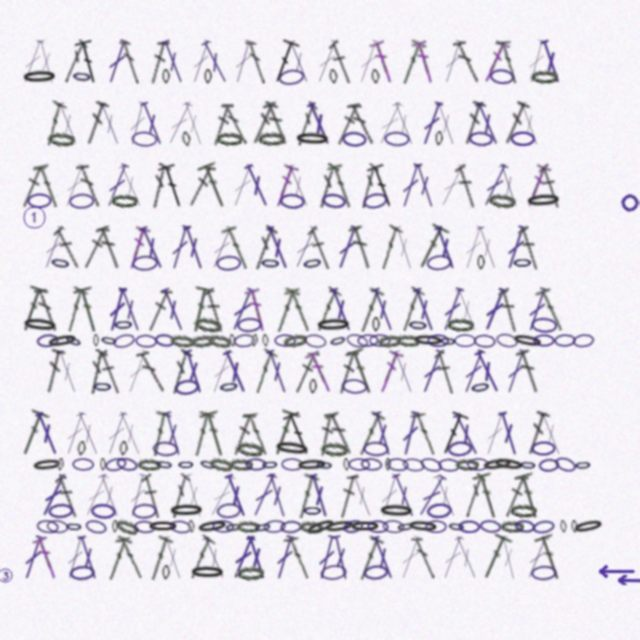chain: (304, 516, 338, 538), (273, 439, 311, 458), (21, 316, 59, 334), (525, 192, 562, 209), (572, 517, 605, 536), (46, 332, 79, 350), (511, 332, 544, 350), (21, 69, 58, 85), (294, 131, 331, 147), (315, 317, 352, 333), (378, 503, 415, 519), (481, 456, 514, 473), (492, 456, 525, 473), (196, 518, 229, 535), (323, 518, 356, 535), (168, 503, 205, 518), (189, 565, 226, 580), (193, 315, 222, 334), (31, 457, 64, 473), (235, 440, 264, 458), (114, 517, 140, 537), (362, 191, 389, 210), (487, 192, 516, 209), (278, 68, 305, 86), (412, 333, 444, 348), (407, 519, 439, 534), (553, 455, 578, 474), (321, 192, 347, 210), (174, 378, 200, 396), (341, 378, 368, 395), (320, 564, 347, 581), (47, 131, 75, 147), (320, 441, 348, 457), (296, 458, 328, 472), (236, 565, 264, 581), (489, 68, 515, 85), (426, 254, 452, 271), (282, 332, 308, 349), (447, 440, 473, 457), (208, 456, 234, 473), (216, 502, 242, 519), (426, 502, 452, 519), (363, 564, 389, 581), (131, 131, 158, 147), (112, 332, 136, 350), (345, 332, 369, 350), (152, 441, 179, 457), (419, 456, 443, 474), (84, 518, 108, 536), (530, 69, 558, 84), (215, 131, 243, 146), (257, 131, 285, 146), (110, 193, 138, 208), (446, 317, 474, 332), (509, 503, 537, 518), (384, 131, 410, 147), (468, 131, 494, 147), (279, 193, 305, 209), (132, 255, 158, 271), (531, 317, 557, 333), (363, 441, 389, 457), (90, 503, 116, 519), (147, 520, 179, 533), (349, 520, 381, 533), (69, 565, 95, 581), (531, 565, 557, 581), (49, 254, 72, 272), (301, 254, 324, 272), (469, 378, 492, 396), (495, 332, 519, 349), (104, 456, 128, 473), (115, 456, 139, 473), (342, 131, 367, 147), (69, 193, 94, 209), (216, 255, 241, 271), (237, 317, 262, 333), (190, 333, 215, 349), (207, 333, 232, 349), (377, 333, 402, 349), (48, 503, 73, 519), (132, 503, 157, 519), (342, 518, 365, 535), (63, 332, 84, 350), (510, 131, 535, 146), (27, 193, 52, 208), (531, 441, 556, 456), (71, 68, 93, 85), (218, 378, 240, 395), (304, 333, 327, 349), (402, 457, 425, 473), (169, 519, 192, 535), (532, 519, 555, 535), (407, 317, 429, 333), (36, 333, 59, 348), (233, 333, 256, 348), (572, 333, 595, 348), (360, 457, 383, 472), (386, 457, 409, 472), (36, 519, 59, 534), (46, 519, 69, 534), (263, 519, 286, 534), (382, 519, 405, 534), (479, 519, 502, 534), (328, 332, 348, 349), (198, 456, 218, 473), (260, 255, 281, 271), (170, 334, 194, 348), (299, 520, 323, 534), (154, 333, 176, 348), (514, 519, 536, 534), (473, 334, 496, 348), (99, 332, 119, 348), (253, 519, 273, 535), (512, 255, 533, 270), (113, 317, 134, 332), (92, 379, 113, 394), (302, 503, 323, 518), (396, 334, 420, 347), (137, 458, 161, 471), (229, 458, 253, 471), (455, 458, 479, 471), (236, 520, 260, 533), (500, 520, 524, 533), (135, 334, 157, 348), (438, 458, 460, 472), (538, 458, 560, 472), (134, 520, 156, 534), (280, 520, 302, 534), (274, 334, 296, 347), (357, 334, 379, 347), (369, 334, 391, 347), (427, 334, 449, 347), (454, 334, 476, 347), (533, 334, 555, 347), (554, 334, 576, 347), (72, 458, 94, 471), (245, 458, 267, 471), (281, 458, 303, 471), (348, 458, 370, 471), (467, 458, 489, 471), (212, 520, 234, 533), (367, 520, 389, 533), (425, 520, 447, 533), (458, 520, 480, 533), (155, 457, 174, 472), (396, 519, 415, 534), (447, 519, 466, 534), (315, 458, 334, 472), (224, 520, 243, 534), (439, 334, 457, 348), (519, 458, 537, 472), (574, 458, 592, 472), (177, 458, 195, 471), (261, 458, 279, 471), (65, 520, 83, 533), (181, 131, 192, 147), (329, 69, 338, 84), (371, 69, 380, 84), (77, 441, 86, 456), (119, 441, 128, 456), (162, 69, 170, 84), (204, 69, 212, 84), (435, 131, 443, 146), (477, 255, 485, 270), (372, 317, 380, 332), (309, 379, 317, 394), (162, 565, 170, 580), (229, 334, 236, 347), (251, 334, 258, 347), (262, 334, 269, 347), (57, 458, 64, 471), (343, 458, 350, 471), (188, 520, 195, 533), (560, 520, 567, 533), (571, 520, 578, 533), (93, 334, 99, 347), (100, 458, 106, 471), (385, 458, 391, 471), (112, 520, 118, 533)
double: (413, 223, 450, 272), (477, 533, 513, 582), (197, 161, 232, 210), (345, 347, 379, 396), (16, 409, 50, 458), (282, 410, 316, 458), (436, 410, 470, 458), (16, 285, 49, 334), (268, 409, 301, 458), (534, 533, 567, 582), (414, 473, 449, 519), (352, 410, 386, 457), (268, 38, 301, 86), (366, 162, 399, 210), (534, 286, 567, 334), (352, 534, 385, 582), (198, 39, 232, 85), (205, 473, 239, 519), (163, 100, 196, 147), (436, 162, 469, 209), (471, 348, 504, 395), (37, 472, 70, 519), (184, 534, 217, 581), (395, 38, 427, 86), (157, 162, 189, 210), (220, 224, 252, 272), (269, 286, 301, 334), (353, 286, 385, 334), (199, 410, 231, 458), (472, 472, 504, 520), (101, 534, 133, 582), (450, 411, 483, 457), (479, 38, 511, 85), (374, 100, 406, 147), (115, 162, 147, 209), (241, 162, 273, 209), (479, 162, 511, 209), (136, 224, 168, 271), (311, 286, 343, 333), (304, 348, 336, 395), (325, 410, 357, 457), (80, 472, 112, 519), (248, 472, 280, 519), (115, 534, 147, 581), (73, 286, 104, 334), (283, 286, 314, 334), (514, 472, 545, 520), (143, 534, 174, 582), (248, 100, 279, 147), (262, 100, 293, 147), (304, 100, 335, 147), (472, 100, 503, 147), (500, 100, 531, 147), (283, 162, 314, 209), (290, 224, 321, 271), (227, 286, 258, 333), (220, 348, 251, 395), (73, 410, 104, 457), (115, 410, 146, 457), (430, 472, 461, 519), (199, 534, 230, 581), (283, 534, 314, 581), (451, 534, 482, 581), (32, 162, 62, 210), (136, 349, 167, 395), (158, 38, 188, 85), (284, 38, 314, 85), (312, 38, 342, 85), (53, 100, 83, 147), (95, 100, 125, 147), (137, 100, 167, 147), (389, 100, 419, 147), (102, 162, 132, 209), (522, 162, 552, 209), (95, 224, 125, 271), (207, 224, 237, 271), (263, 224, 293, 271), (158, 286, 188, 333), (326, 286, 356, 333), (368, 286, 398, 333), (396, 286, 426, 333), (452, 286, 482, 333), (480, 286, 510, 333), (249, 348, 279, 395), (417, 348, 447, 395), (32, 410, 62, 457), (242, 410, 272, 457), (410, 410, 440, 457), (536, 410, 566, 457), (221, 472, 251, 519), (347, 472, 377, 519), (389, 472, 419, 519), (228, 534, 258, 581), (368, 534, 398, 581), (522, 534, 552, 581), (52, 225, 83, 270), (74, 38, 103, 86), (326, 162, 355, 210), (186, 286, 215, 334), (291, 472, 320, 520), (18, 38, 47, 85), (354, 38, 383, 85), (179, 100, 208, 147), (417, 100, 446, 147), (515, 100, 544, 147), (60, 162, 89, 209), (228, 162, 257, 209), (39, 224, 68, 271), (333, 224, 362, 271), (375, 224, 404, 271), (431, 224, 460, 271), (473, 224, 502, 271), (116, 286, 145, 333), (410, 286, 439, 333), (438, 286, 467, 333), (53, 348, 82, 395), (123, 348, 152, 395), (207, 348, 236, 395), (263, 348, 292, 395), (375, 348, 404, 395), (389, 348, 418, 395), (459, 348, 488, 395), (515, 348, 544, 395), (102, 410, 131, 457), (95, 472, 124, 519), (32, 534, 61, 581), (396, 534, 425, 581), (438, 534, 467, 581), (186, 163, 216, 208), (347, 101, 376, 147), (249, 225, 278, 271), (103, 38, 131, 85), (187, 38, 215, 85), (369, 38, 397, 85), (439, 38, 467, 85), (537, 38, 565, 85), (40, 100, 68, 147), (82, 100, 110, 147), (432, 100, 460, 147), (271, 162, 299, 209), (411, 162, 439, 209), (495, 162, 523, 209), (180, 224, 208, 271), (348, 224, 376, 271), (390, 224, 418, 271), (502, 224, 530, 271), (61, 286, 89, 333), (523, 286, 551, 333), (502, 348, 530, 395), (61, 410, 89, 457), (187, 410, 215, 457), (481, 410, 509, 457), (523, 410, 551, 457), (19, 534, 47, 581), (159, 534, 187, 581), (60, 39, 89, 84), (221, 101, 250, 146), (81, 225, 110, 270), (327, 39, 355, 85), (453, 39, 481, 85), (334, 101, 362, 147), (306, 225, 334, 271), (145, 287, 173, 333), (96, 349, 124, 395), (292, 349, 320, 395), (411, 38, 438, 85), (495, 38, 522, 85), (460, 100, 487, 147), (397, 162, 424, 209), (124, 224, 151, 271), (460, 224, 487, 271), (180, 348, 207, 395), (145, 410, 172, 457), (495, 410, 522, 457), (264, 472, 291, 519), (306, 472, 333, 519), (376, 472, 403, 519), (75, 534, 102, 581), (243, 534, 270, 581), (271, 534, 298, 581), (19, 163, 46, 209), (313, 163, 340, 209), (537, 163, 564, 209), (166, 349, 193, 395), (54, 473, 81, 519), (502, 473, 529, 519), (230, 38, 256, 85), (167, 224, 193, 271), (104, 286, 130, 333), (244, 286, 270, 333), (160, 410, 186, 457), (370, 410, 396, 457), (181, 472, 207, 519), (62, 534, 88, 581), (411, 535, 438, 580), (293, 101, 319, 147), (76, 163, 102, 209), (230, 411, 256, 457), (34, 38, 59, 85), (524, 38, 549, 85), (125, 100, 150, 147), (398, 410, 423, 457), (125, 472, 150, 519), (314, 534, 339, 581), (496, 534, 521, 581), (461, 473, 487, 518), (146, 163, 171, 209), (454, 163, 479, 209), (517, 225, 542, 271), (34, 287, 59, 333), (202, 287, 227, 333), (433, 349, 458, 395), (42, 348, 66, 395), (329, 534, 353, 581), (210, 101, 234, 147), (497, 287, 521, 333), (84, 349, 108, 395), (140, 473, 164, 519), (119, 39, 142, 85), (147, 39, 170, 85), (245, 39, 268, 85), (357, 163, 380, 209), (336, 349, 359, 395), (168, 473, 191, 519), (337, 473, 359, 519), (317, 411, 336, 457)
noise: (21, 204, 48, 231), (596, 564, 635, 579), (619, 192, 640, 214), (0, 566, 15, 585), (615, 575, 640, 585)
